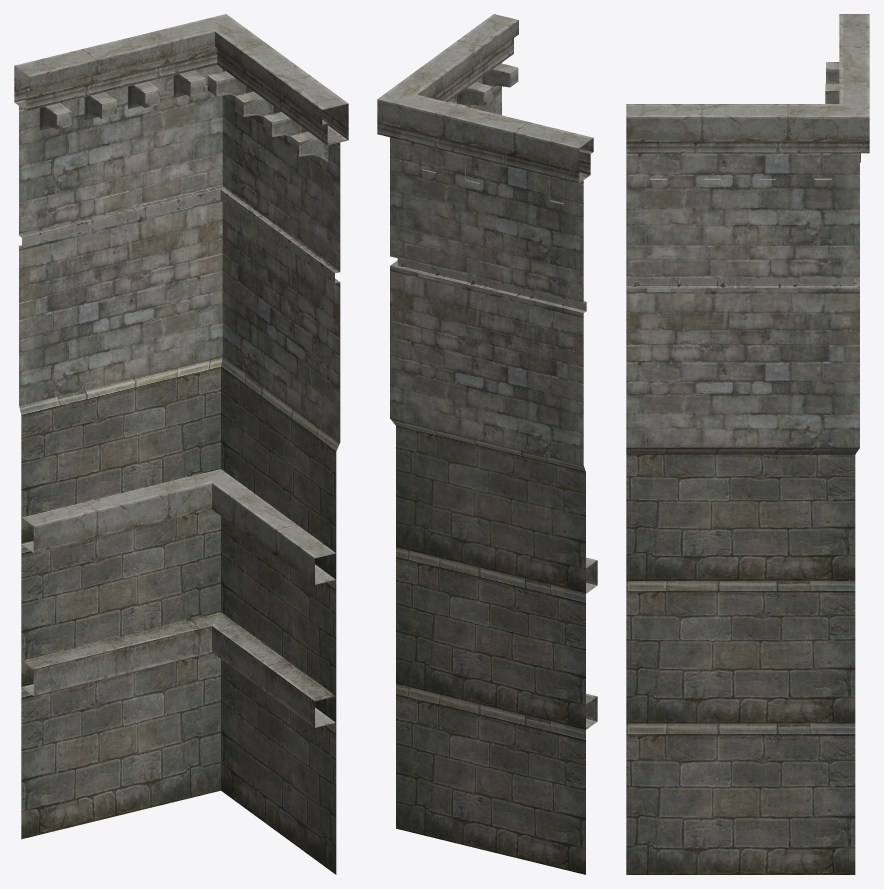
The model's file is bg_lut_lucastle_wall03a_sm_lkj.FBX.
The picture shows the model from 3 angles, left to right: view 1: azimuth 30°, elevation 25°; view 2: azimuth 150°, elevation 25°; view 3: azimuth 270°, elevation 25°; orthographic projection. The views are drawn at different scales.
Visible parts, largest first — view 1: bg_lut_lucastle_wall03a_sm_lkj; view 2: bg_lut_lucastle_wall03a_sm_lkj; view 3: bg_lut_lucastle_wall03a_sm_lkj.
Part boxes in pixels (bbox=[...]): bg_lut_lucastle_wall03a_sm_lkj: bbox=[14, 14, 348, 874]; bg_lut_lucastle_wall03a_sm_lkj: bbox=[377, 14, 597, 874]; bg_lut_lucastle_wall03a_sm_lkj: bbox=[626, 14, 869, 874].
Bounding box in the file's own units: 384 × 1330 × 384.
